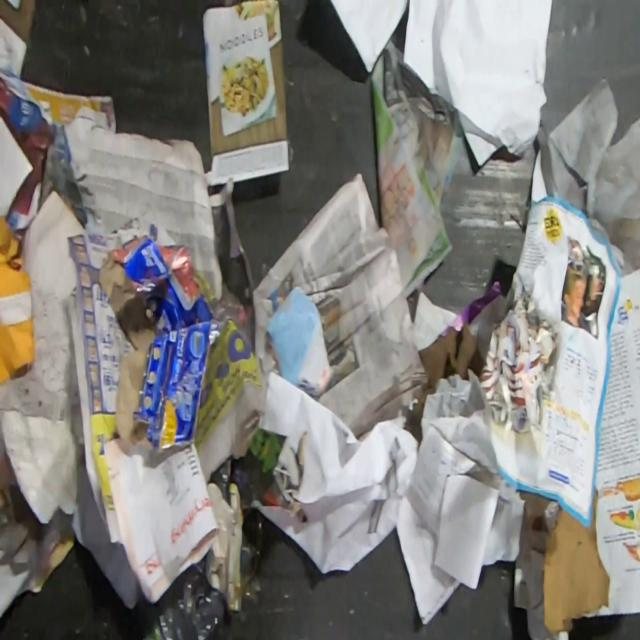cardboard: (96, 235, 220, 458), (202, 0, 291, 189), (403, 321, 487, 449), (541, 487, 611, 638), (0, 212, 37, 388)
rigid_plastic: (142, 552, 228, 639), (242, 528, 256, 578)
soft_plastic: (534, 72, 640, 278), (238, 508, 264, 627), (220, 458, 233, 503)
